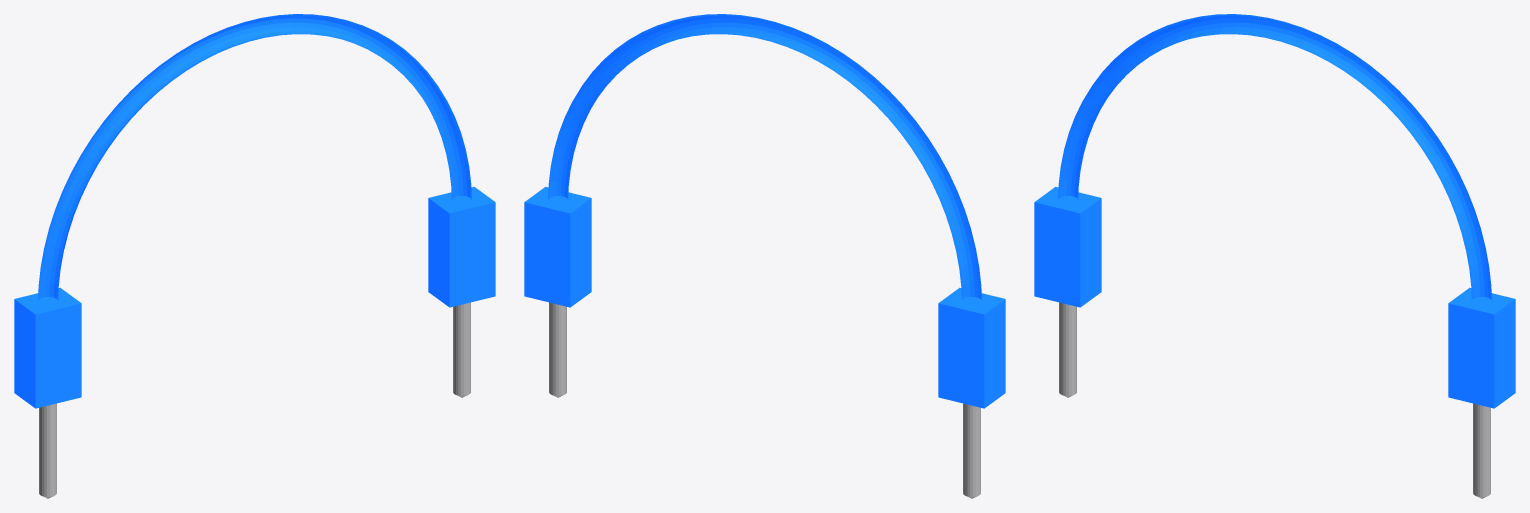
File: cable_parche_azul.glb
The picture shows the model from 3 angles, left to right: view 1: azimuth 30°, elevation 25°; view 2: azimuth 150°, elevation 25°; view 3: azimuth 330°, elevation 25°; orthographic projection.
Parts seen in each view (by area): view 1: Cable_Arco, Cuerpo_Plug_Izq, Cuerpo_Plug_Der, Pin_Izq, Pin_Der; view 2: Cable_Arco, Cuerpo_Plug_Izq, Cuerpo_Plug_Der, Pin_Izq, Pin_Der; view 3: Cable_Arco, Cuerpo_Plug_Izq, Cuerpo_Plug_Der, Pin_Izq, Pin_Der.
Part boxes in pixels (box(x1,y1,x2,y2)): Cable_Arco: box(38, 14, 471, 300); Cuerpo_Plug_Izq: box(14, 287, 81, 408); Cuerpo_Plug_Der: box(428, 186, 495, 307); Pin_Izq: box(39, 403, 56, 498); Pin_Der: box(453, 302, 470, 397); Cable_Arco: box(548, 14, 981, 300); Cuerpo_Plug_Izq: box(938, 287, 1005, 408); Cuerpo_Plug_Der: box(524, 186, 591, 307); Pin_Izq: box(963, 403, 980, 498); Pin_Der: box(549, 302, 566, 397); Cable_Arco: box(1058, 14, 1491, 300); Cuerpo_Plug_Izq: box(1034, 186, 1101, 307); Cuerpo_Plug_Der: box(1448, 287, 1515, 408); Pin_Izq: box(1059, 302, 1076, 397); Pin_Der: box(1473, 403, 1490, 498).
Size of the model in its own units: 0.0998 by 0.0887 by 0.008.
